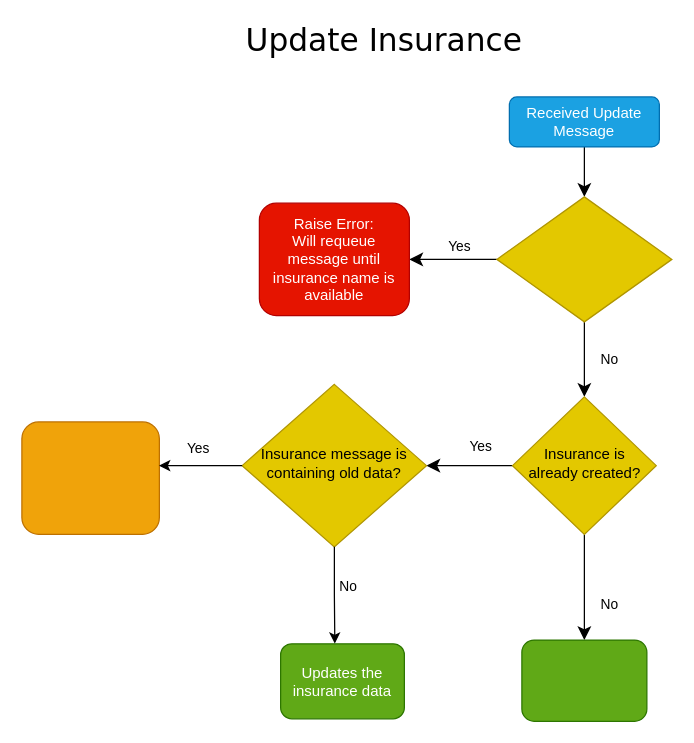
The diagram is 694 pixels wide and 743 high, and some of its shapes have lost their labels. The shapes that lost their labels are listed below. From the top down, each one's centre as x and y in pixels, then its label:
pixel 584 259: Insurance Name already taken?
pixel 90 477: Will drop message as it is older than the already updated insurance
pixel 584 680: Updates the insurance by creating it
